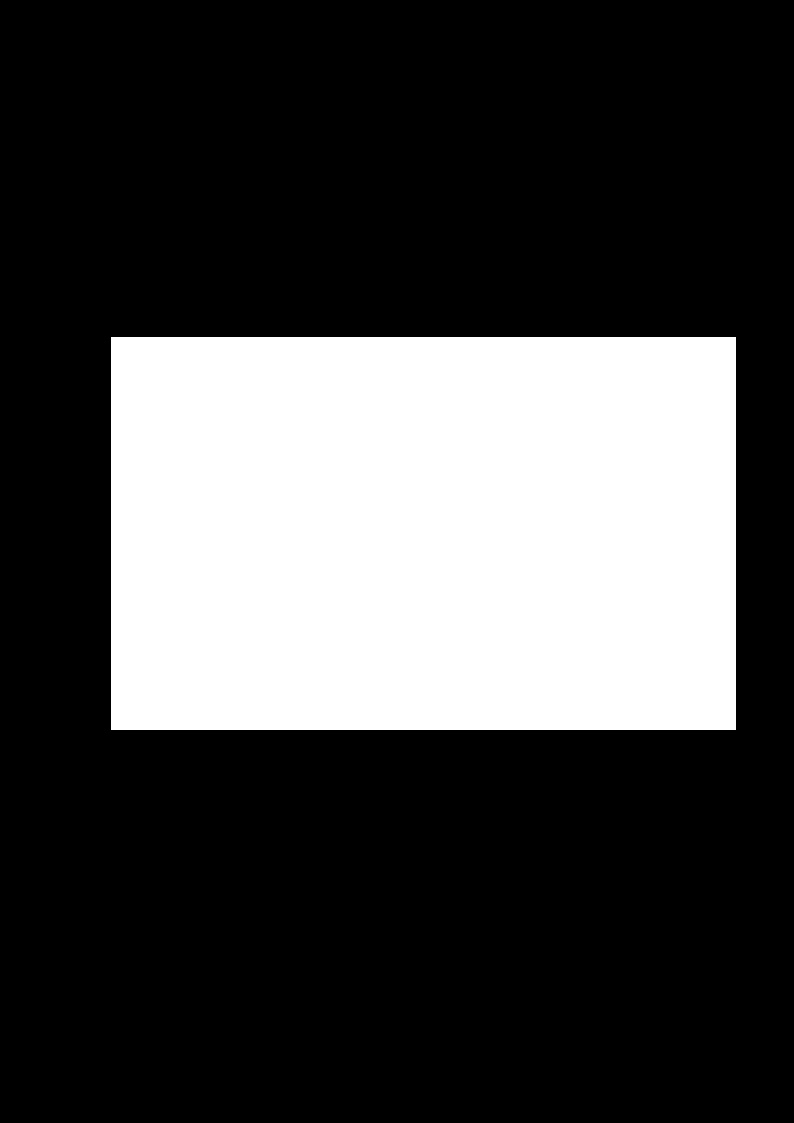table: (111, 337, 735, 729)
